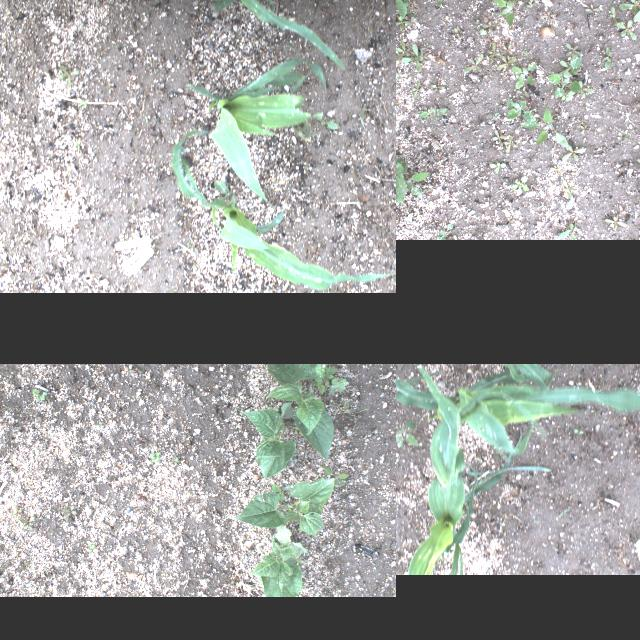crop: (170, 130, 392, 290), (396, 364, 640, 488), (406, 424, 550, 574), (184, 58, 326, 202), (212, 0, 345, 69), (262, 364, 333, 462), (232, 478, 334, 544), (242, 411, 296, 479), (248, 541, 306, 595)
weed: (519, 108, 567, 148), (546, 56, 582, 98), (310, 364, 350, 399), (398, 156, 428, 200), (400, 43, 428, 71), (490, 0, 518, 26), (318, 464, 348, 488), (510, 62, 536, 88), (505, 101, 535, 121), (396, 420, 418, 447), (617, 0, 640, 25), (11, 508, 34, 532), (558, 52, 578, 78), (56, 66, 78, 88), (567, 80, 593, 98), (358, 105, 370, 141), (418, 106, 447, 120), (463, 54, 483, 74), (616, 20, 636, 40), (509, 176, 528, 197), (604, 214, 626, 232), (315, 113, 339, 129), (558, 224, 582, 240), (561, 146, 585, 162), (487, 42, 499, 66), (495, 56, 515, 70), (436, 224, 452, 240), (491, 130, 507, 146), (396, 15, 412, 31), (564, 43, 582, 57), (612, 130, 632, 142), (396, 41, 408, 61), (608, 7, 618, 27), (562, 180, 572, 200), (30, 388, 44, 402), (583, 4, 599, 16), (602, 46, 610, 70), (489, 162, 505, 174), (482, 20, 498, 32), (411, 81, 421, 99), (474, 20, 486, 34), (430, 81, 444, 93), (504, 136, 514, 152), (516, 86, 528, 98), (148, 451, 160, 463), (542, 12, 556, 22), (524, 0, 536, 10), (502, 44, 512, 56), (557, 508, 569, 518), (604, 80, 618, 88), (188, 242, 198, 252), (402, 202, 412, 212), (64, 508, 74, 518), (80, 97, 88, 109), (419, 43, 431, 51), (429, 0, 444, 6), (550, 168, 562, 175), (560, 92, 568, 101), (580, 125, 588, 134), (125, 369, 143, 373), (88, 542, 95, 552), (130, 199, 136, 209), (452, 27, 458, 37), (173, 456, 179, 466), (573, 428, 583, 434), (521, 50, 529, 56), (0, 533, 5, 542), (636, 158, 640, 169), (105, 86, 114, 90), (74, 140, 80, 146), (96, 420, 100, 428), (618, 377, 622, 385), (191, 263, 195, 269)
